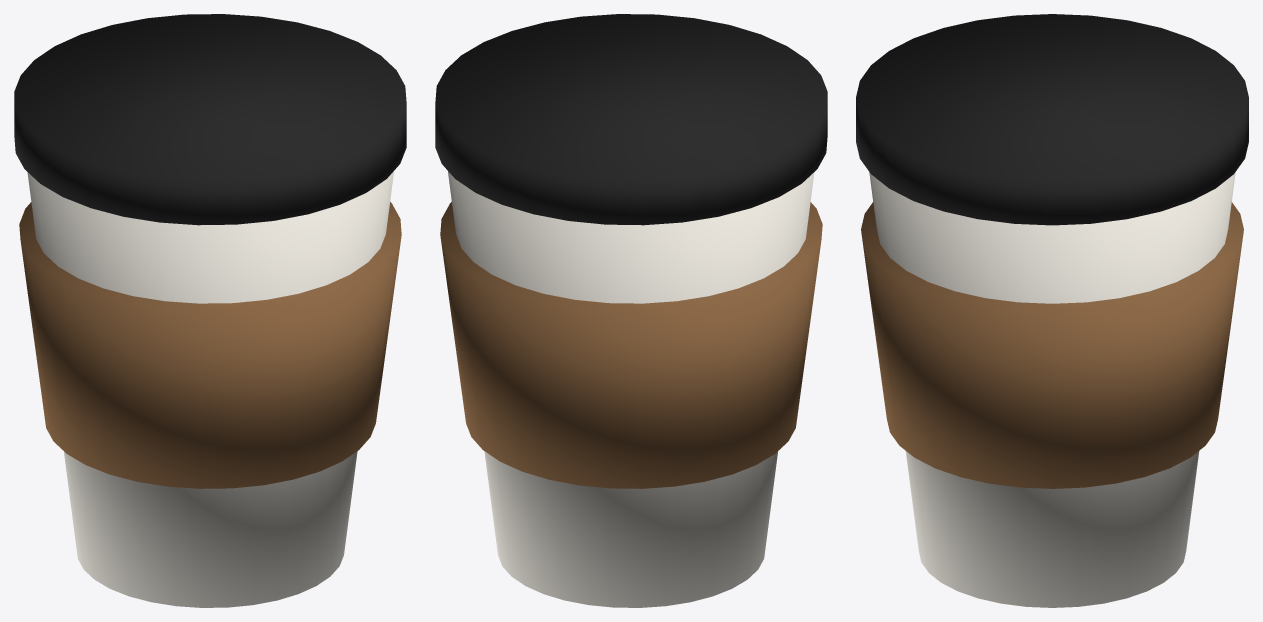
Rendered from coffee_cup.glb.
3 renders of one model, left to right at view 1: azimuth 30°, elevation 25°; view 2: azimuth 150°, elevation 25°; view 3: azimuth 270°, elevation 25°, orthographic.
Visible parts, largest first — view 1: coffee_cup; view 2: coffee_cup; view 3: coffee_cup.
Part boxes in pixels (bbox=[...]): coffee_cup: bbox=[14, 14, 406, 607]; coffee_cup: bbox=[435, 14, 827, 607]; coffee_cup: bbox=[856, 14, 1248, 607].
Size of the model in its own units: 0.094 by 0.12 by 0.094.
